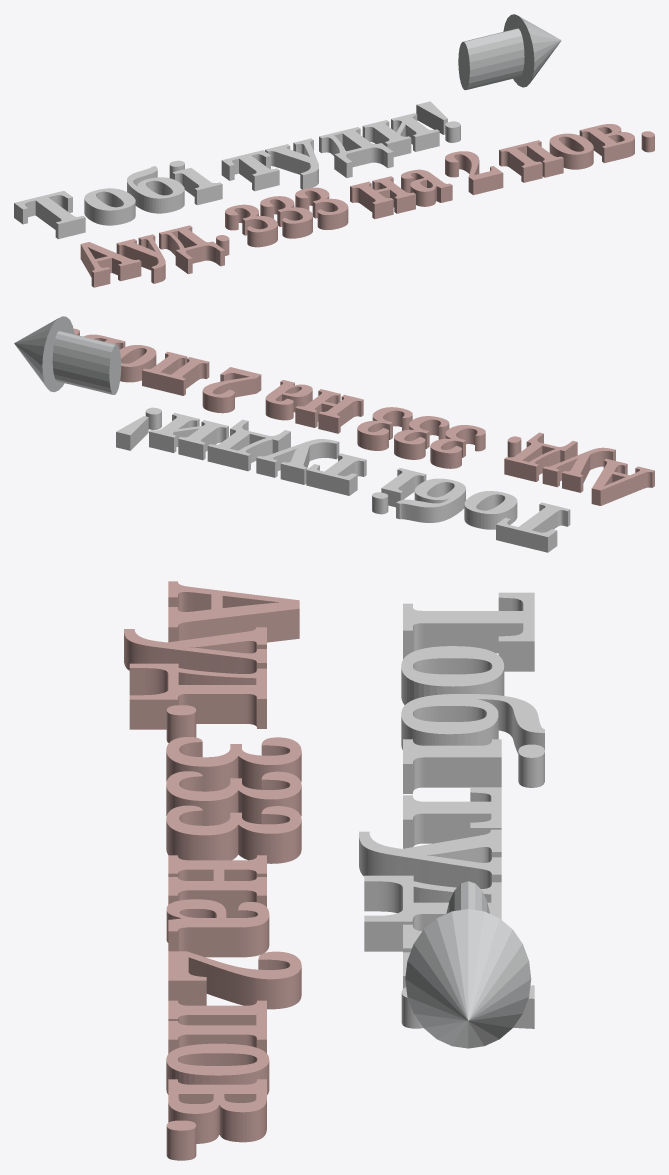
Rendered from 2_gothere_333.glb.
The picture shows the model from 3 angles, top to bottom: view 1: azimuth 30°, elevation 25°; view 2: azimuth 150°, elevation 25°; view 3: azimuth 270°, elevation 25°; orthographic projection. The views are drawn at different scales.
Visible parts, largest first — view 1: Mesh_Mesh_head_geo.001_lambert2SG.001; view 2: Mesh_Mesh_head_geo.001_lambert2SG.001; view 3: Mesh_Mesh_head_geo.001_lambert2SG.001.
Part boxes in pixels (left/top/right/bottom): Mesh_Mesh_head_geo.001_lambert2SG.001: left=14, top=14, right=654, bottom=287; Mesh_Mesh_head_geo.001_lambert2SG.001: left=14, top=316, right=654, bottom=552; Mesh_Mesh_head_geo.001_lambert2SG.001: left=124, top=581, right=544, bottom=1160.
Size of the model in its own units: 196 by 31.61 by 63.5.
